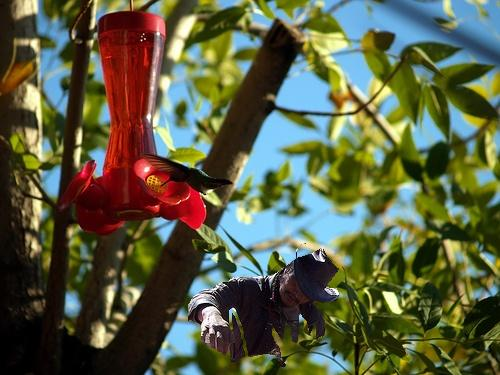tampered: (189, 244, 339, 367)
